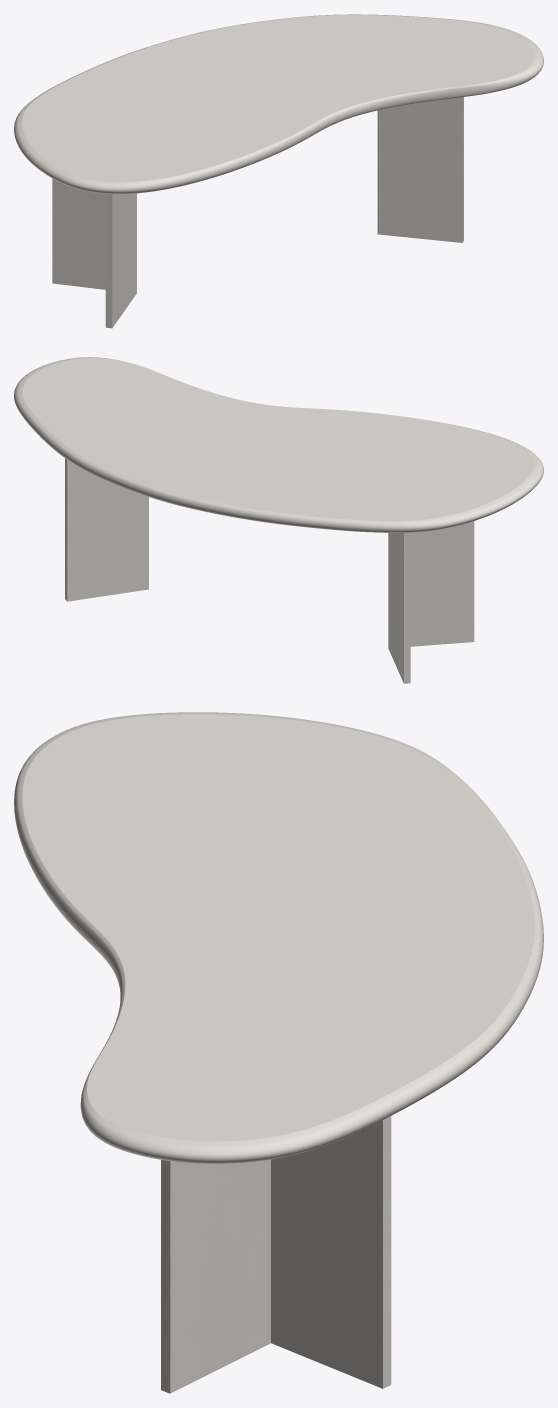
Rendered from pearlwhite_leaf1_round_valleyv.glb.
3 views of the same model, one above another, from view 1: azimuth 30°, elevation 25°; view 2: azimuth 150°, elevation 25°; view 3: azimuth 270°, elevation 25° (orthographic). The views are drawn at different scales.
Parts seen in each view (by area): view 1: round_leaf1, valleyv; view 2: round_leaf1, valleyv; view 3: round_leaf1, valleyv.
Part boxes in pixels (x1=…): round_leaf1: x1=14, y1=14, x2=543, y2=194; valleyv: x1=52, y1=97, x2=463, y2=328; round_leaf1: x1=14, y1=357, x2=543, y2=532; valleyv: x1=65, y1=458, x2=474, y2=683; round_leaf1: x1=14, y1=712, x2=543, y2=1163; valleyv: x1=161, y1=1116, x2=391, y2=1393.
Size of the model in its own units: 7.5 by 2.5 by 3.8.
Materials: 1 (1 with a texture image).
